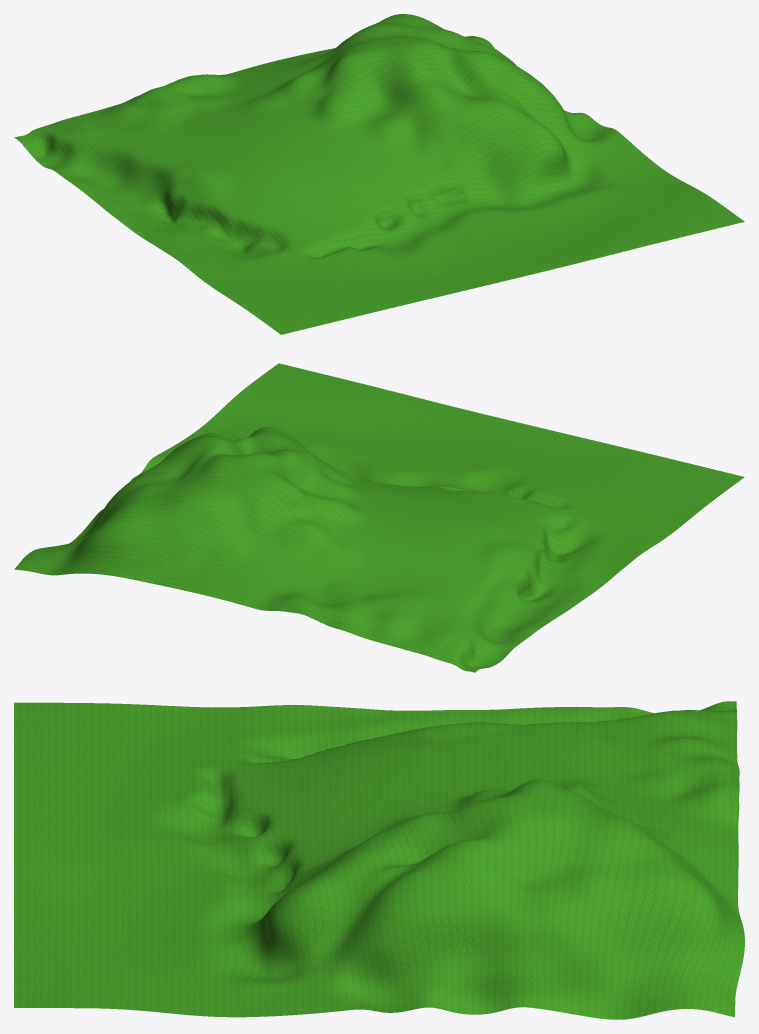
Rendered from world.fbx.
The picture shows the model from 3 angles, top to bottom: view 1: azimuth 30°, elevation 25°; view 2: azimuth 150°, elevation 25°; view 3: azimuth 270°, elevation 25°; orthographic projection. The views are drawn at different scales.
Parts seen in each view (by area): view 1: Ground; view 2: Ground; view 3: Ground.
Boxes of the visible parts, x1,y1,x2,y2 form: Ground: [14, 14, 744, 334]; Ground: [14, 363, 744, 672]; Ground: [14, 701, 744, 1019].
Bounding box in the file's own units: 117 × 22.5 × 118.
